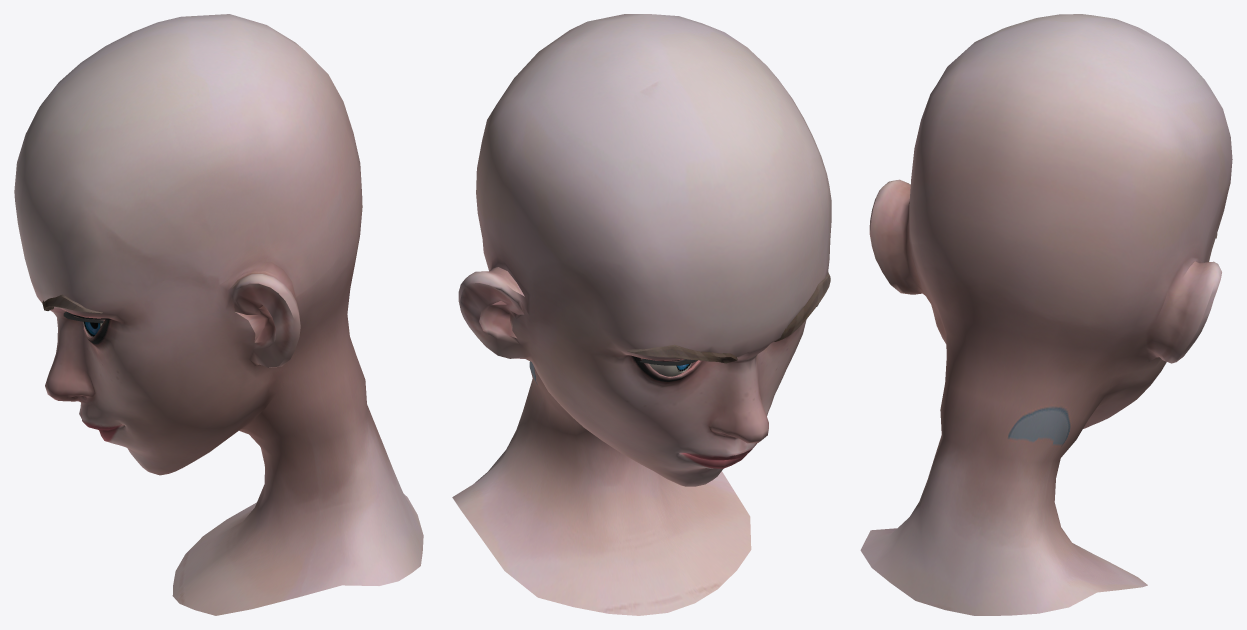
The model's file is arcane_-_jinx_had.glb.
3 renders of one model, left to right at view 1: azimuth 30°, elevation 25°; view 2: azimuth 150°, elevation 25°; view 3: azimuth 270°, elevation 25°, orthographic. The views are drawn at different scales.
Parts seen in each view (by area): view 1: Object_6; view 2: Object_6; view 3: Object_6.
Part boxes in pixels (x1,y1,x2,y2): Object_6: [14, 14, 423, 615]; Object_6: [452, 14, 831, 615]; Object_6: [860, 14, 1232, 615].
Bounding box in the file's own units: 0.188 × 0.2848 × 0.1756.
Materials: 1 (1 with a texture image).
